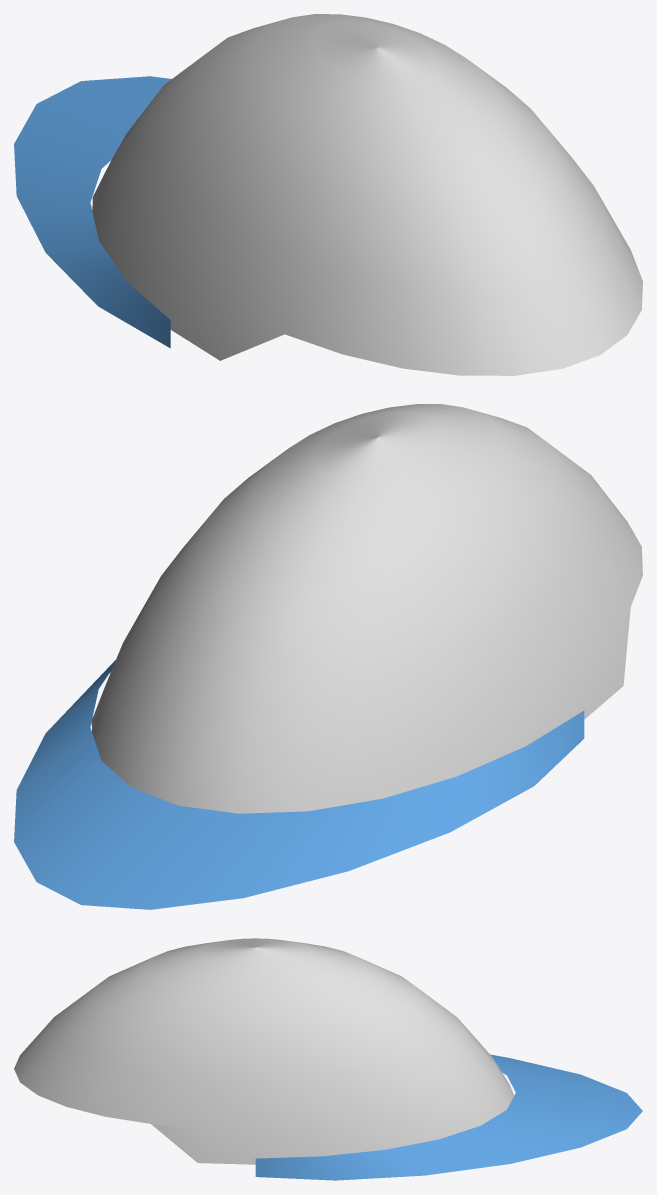
File: bone_tras_branco.glb
The picture shows the model from 3 angles, top to bottom: view 1: azimuth 30°, elevation 25°; view 2: azimuth 150°, elevation 25°; view 3: azimuth 270°, elevation 25°; orthographic projection. The views are drawn at different scales.
Parts seen in each view (by area): view 1: bone_tras_branco; view 2: bone_tras_branco; view 3: bone_tras_branco.
Part boxes in pixels (bbox=[...]): bone_tras_branco: bbox=[14, 14, 642, 375]; bone_tras_branco: bbox=[14, 404, 642, 909]; bone_tras_branco: bbox=[14, 938, 642, 1180].
Bounding box in the file's own units: 0.1942 × 0.1065 × 0.3711.
